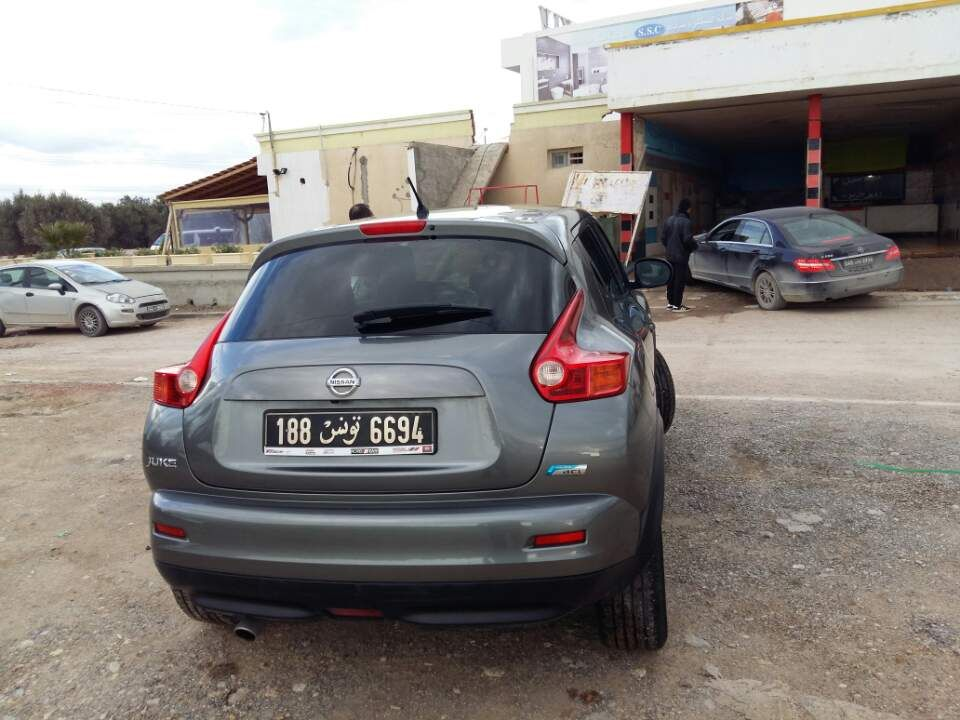LP: (264, 409, 437, 450)
